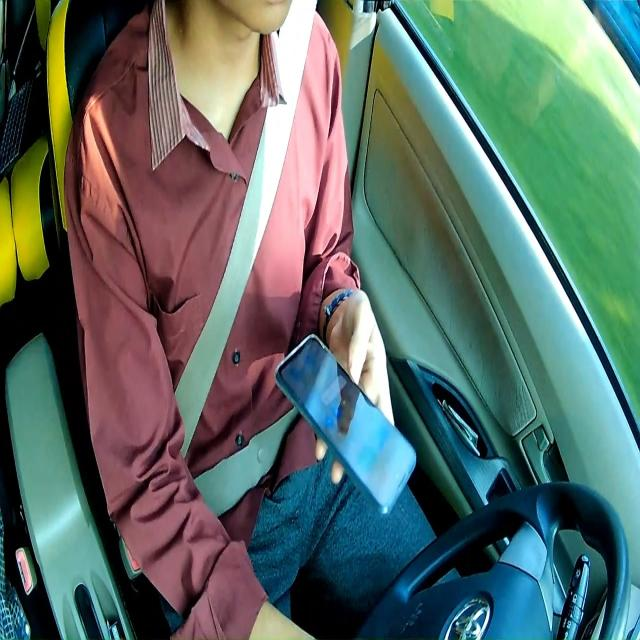phone: (272, 329, 421, 519)
